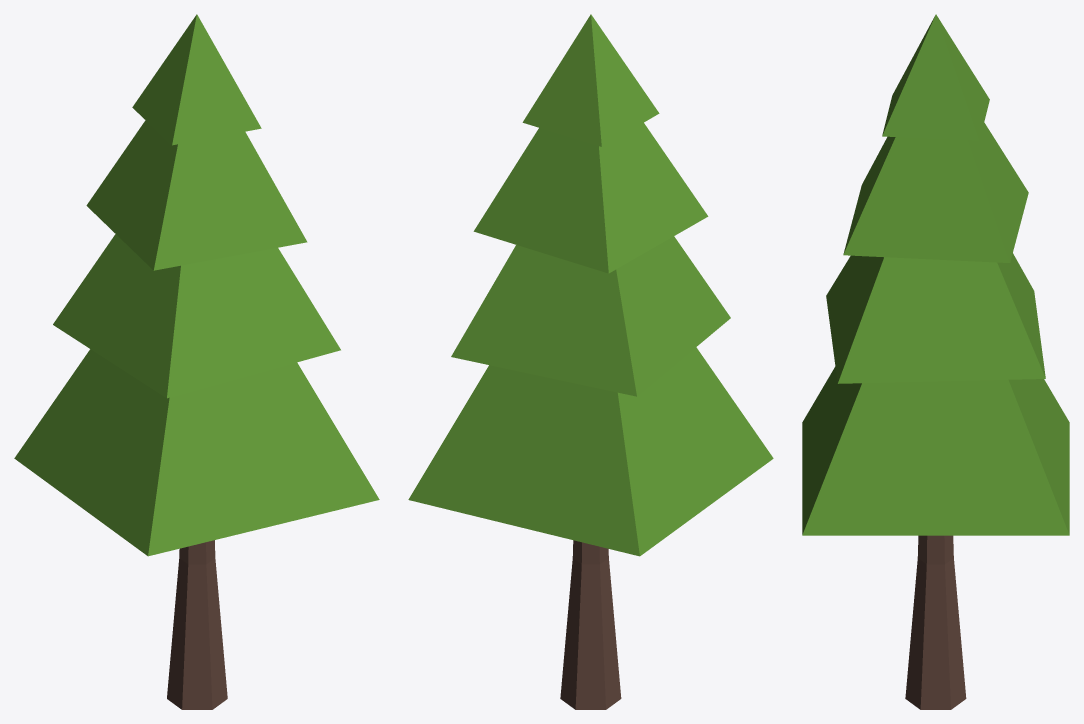
The model's file is SpringTree_03.fbx.
The picture shows the model from 3 angles, left to right: view 1: azimuth 30°, elevation 25°; view 2: azimuth 150°, elevation 25°; view 3: azimuth 270°, elevation 25°; orthographic projection.
Visible parts, largest first — view 1: SpringTree_03; view 2: SpringTree_03; view 3: SpringTree_03.
Boxes of the visible parts, bbox=[...] form: SpringTree_03: bbox=[14, 14, 379, 709]; SpringTree_03: bbox=[408, 14, 773, 709]; SpringTree_03: bbox=[802, 14, 1069, 709].
Bounding box in the file's own units: 344 × 972 × 344.
